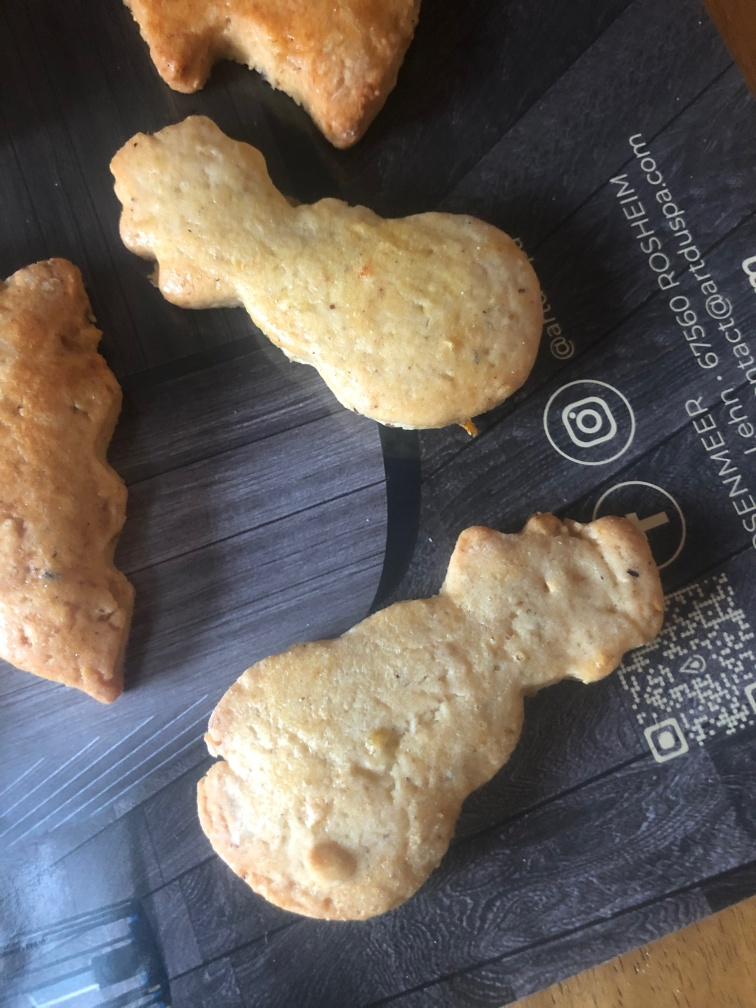christmas tree: (1, 256, 147, 715)
snowman: (186, 508, 670, 927), (97, 104, 541, 438)
